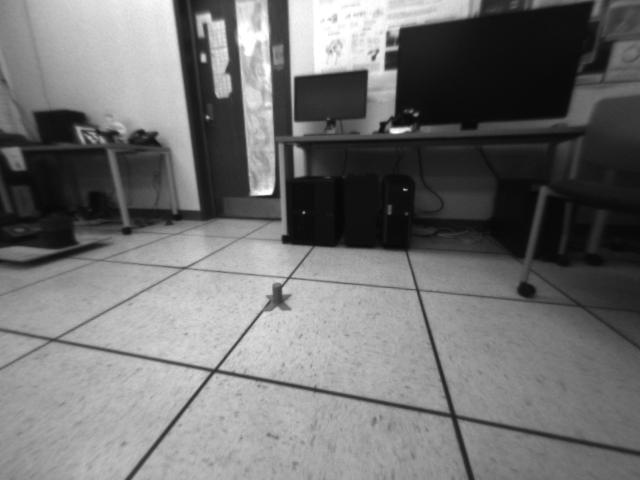X: (262, 281, 293, 313)
